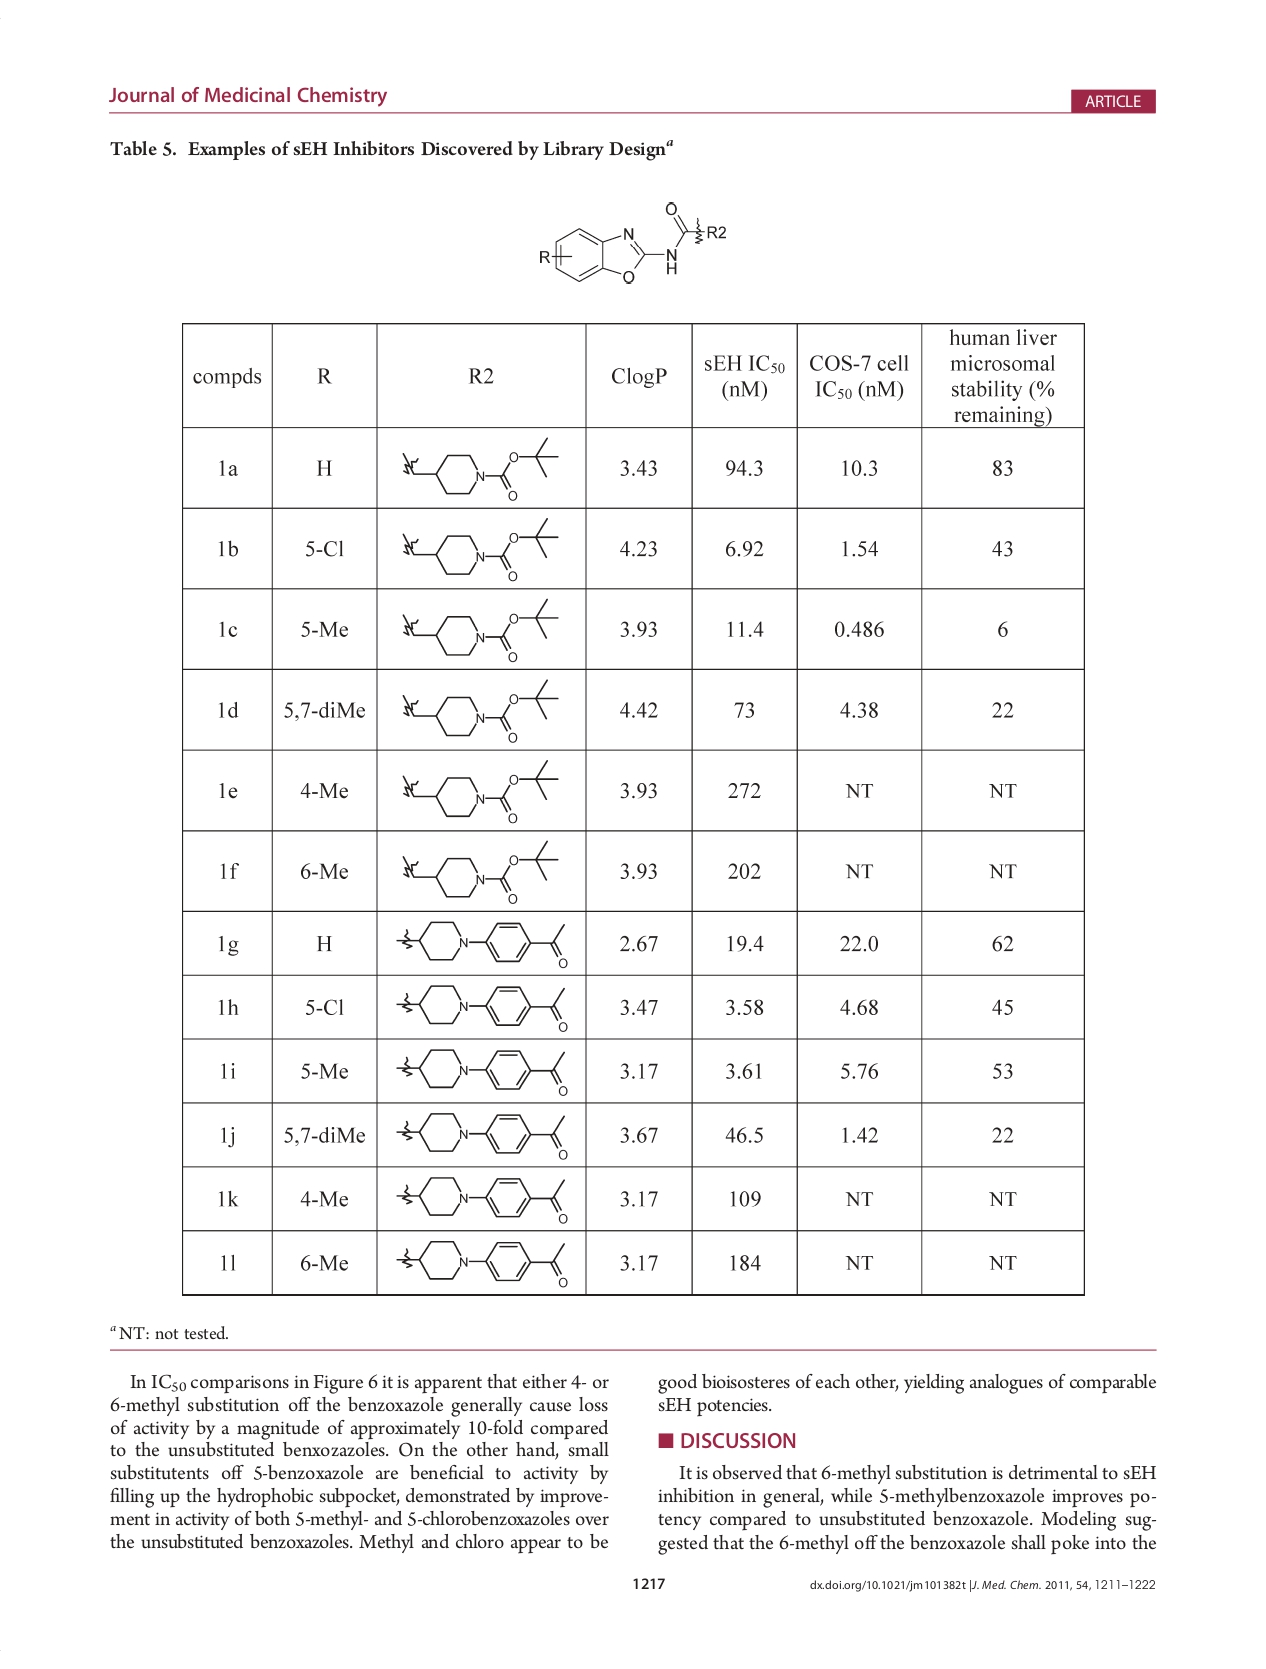exist_molecular: (529, 197, 731, 289), (390, 434, 563, 500), (398, 755, 559, 826), (392, 517, 559, 585), (394, 597, 563, 664), (396, 680, 559, 745), (391, 1108, 576, 1165), (398, 839, 557, 903), (394, 980, 572, 1035), (394, 1173, 572, 1227), (391, 1237, 573, 1289), (394, 918, 570, 971), (392, 1047, 570, 1098)
